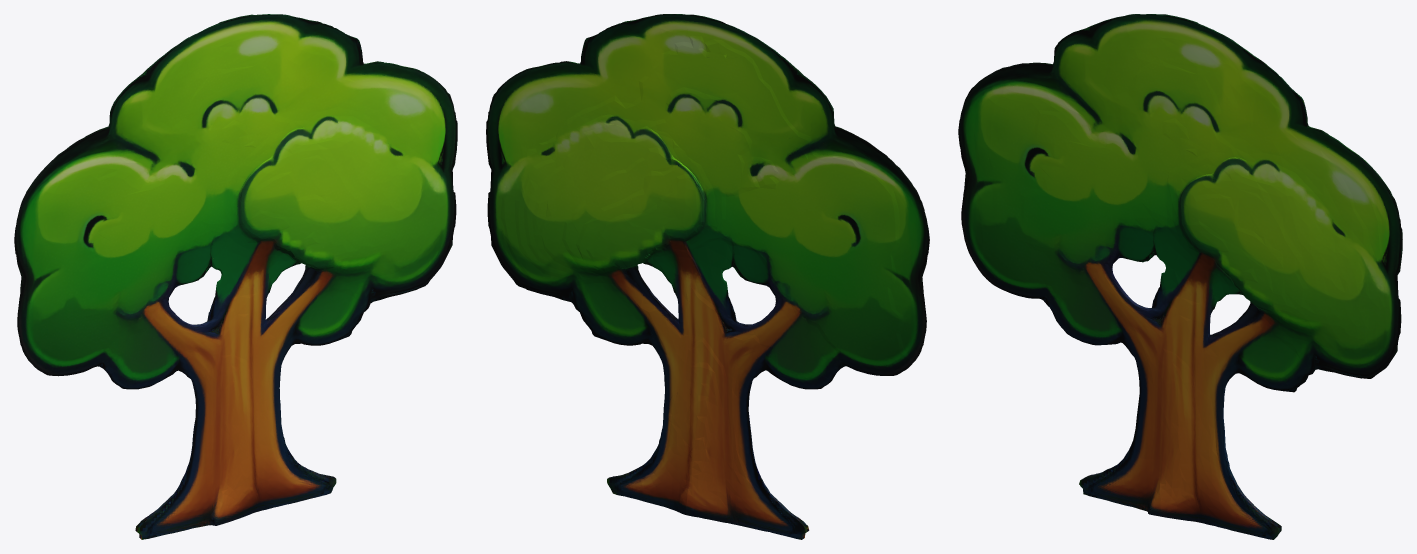
3 renders of one model, left to right at view 1: azimuth 30°, elevation 25°; view 2: azimuth 150°, elevation 25°; view 3: azimuth 330°, elevation 25°, orthographic.
Visible parts, largest first — view 1: world; view 2: world; view 3: world.
Boxes of the visible parts, <box> form: world: <box>14,14,457,539</box>; world: <box>486,14,929,539</box>; world: <box>958,14,1402,539</box>.
Bounding box in the file's own units: 0.9305 × 0.9997 × 0.0404.
Materials: 1 (1 with a texture image).
